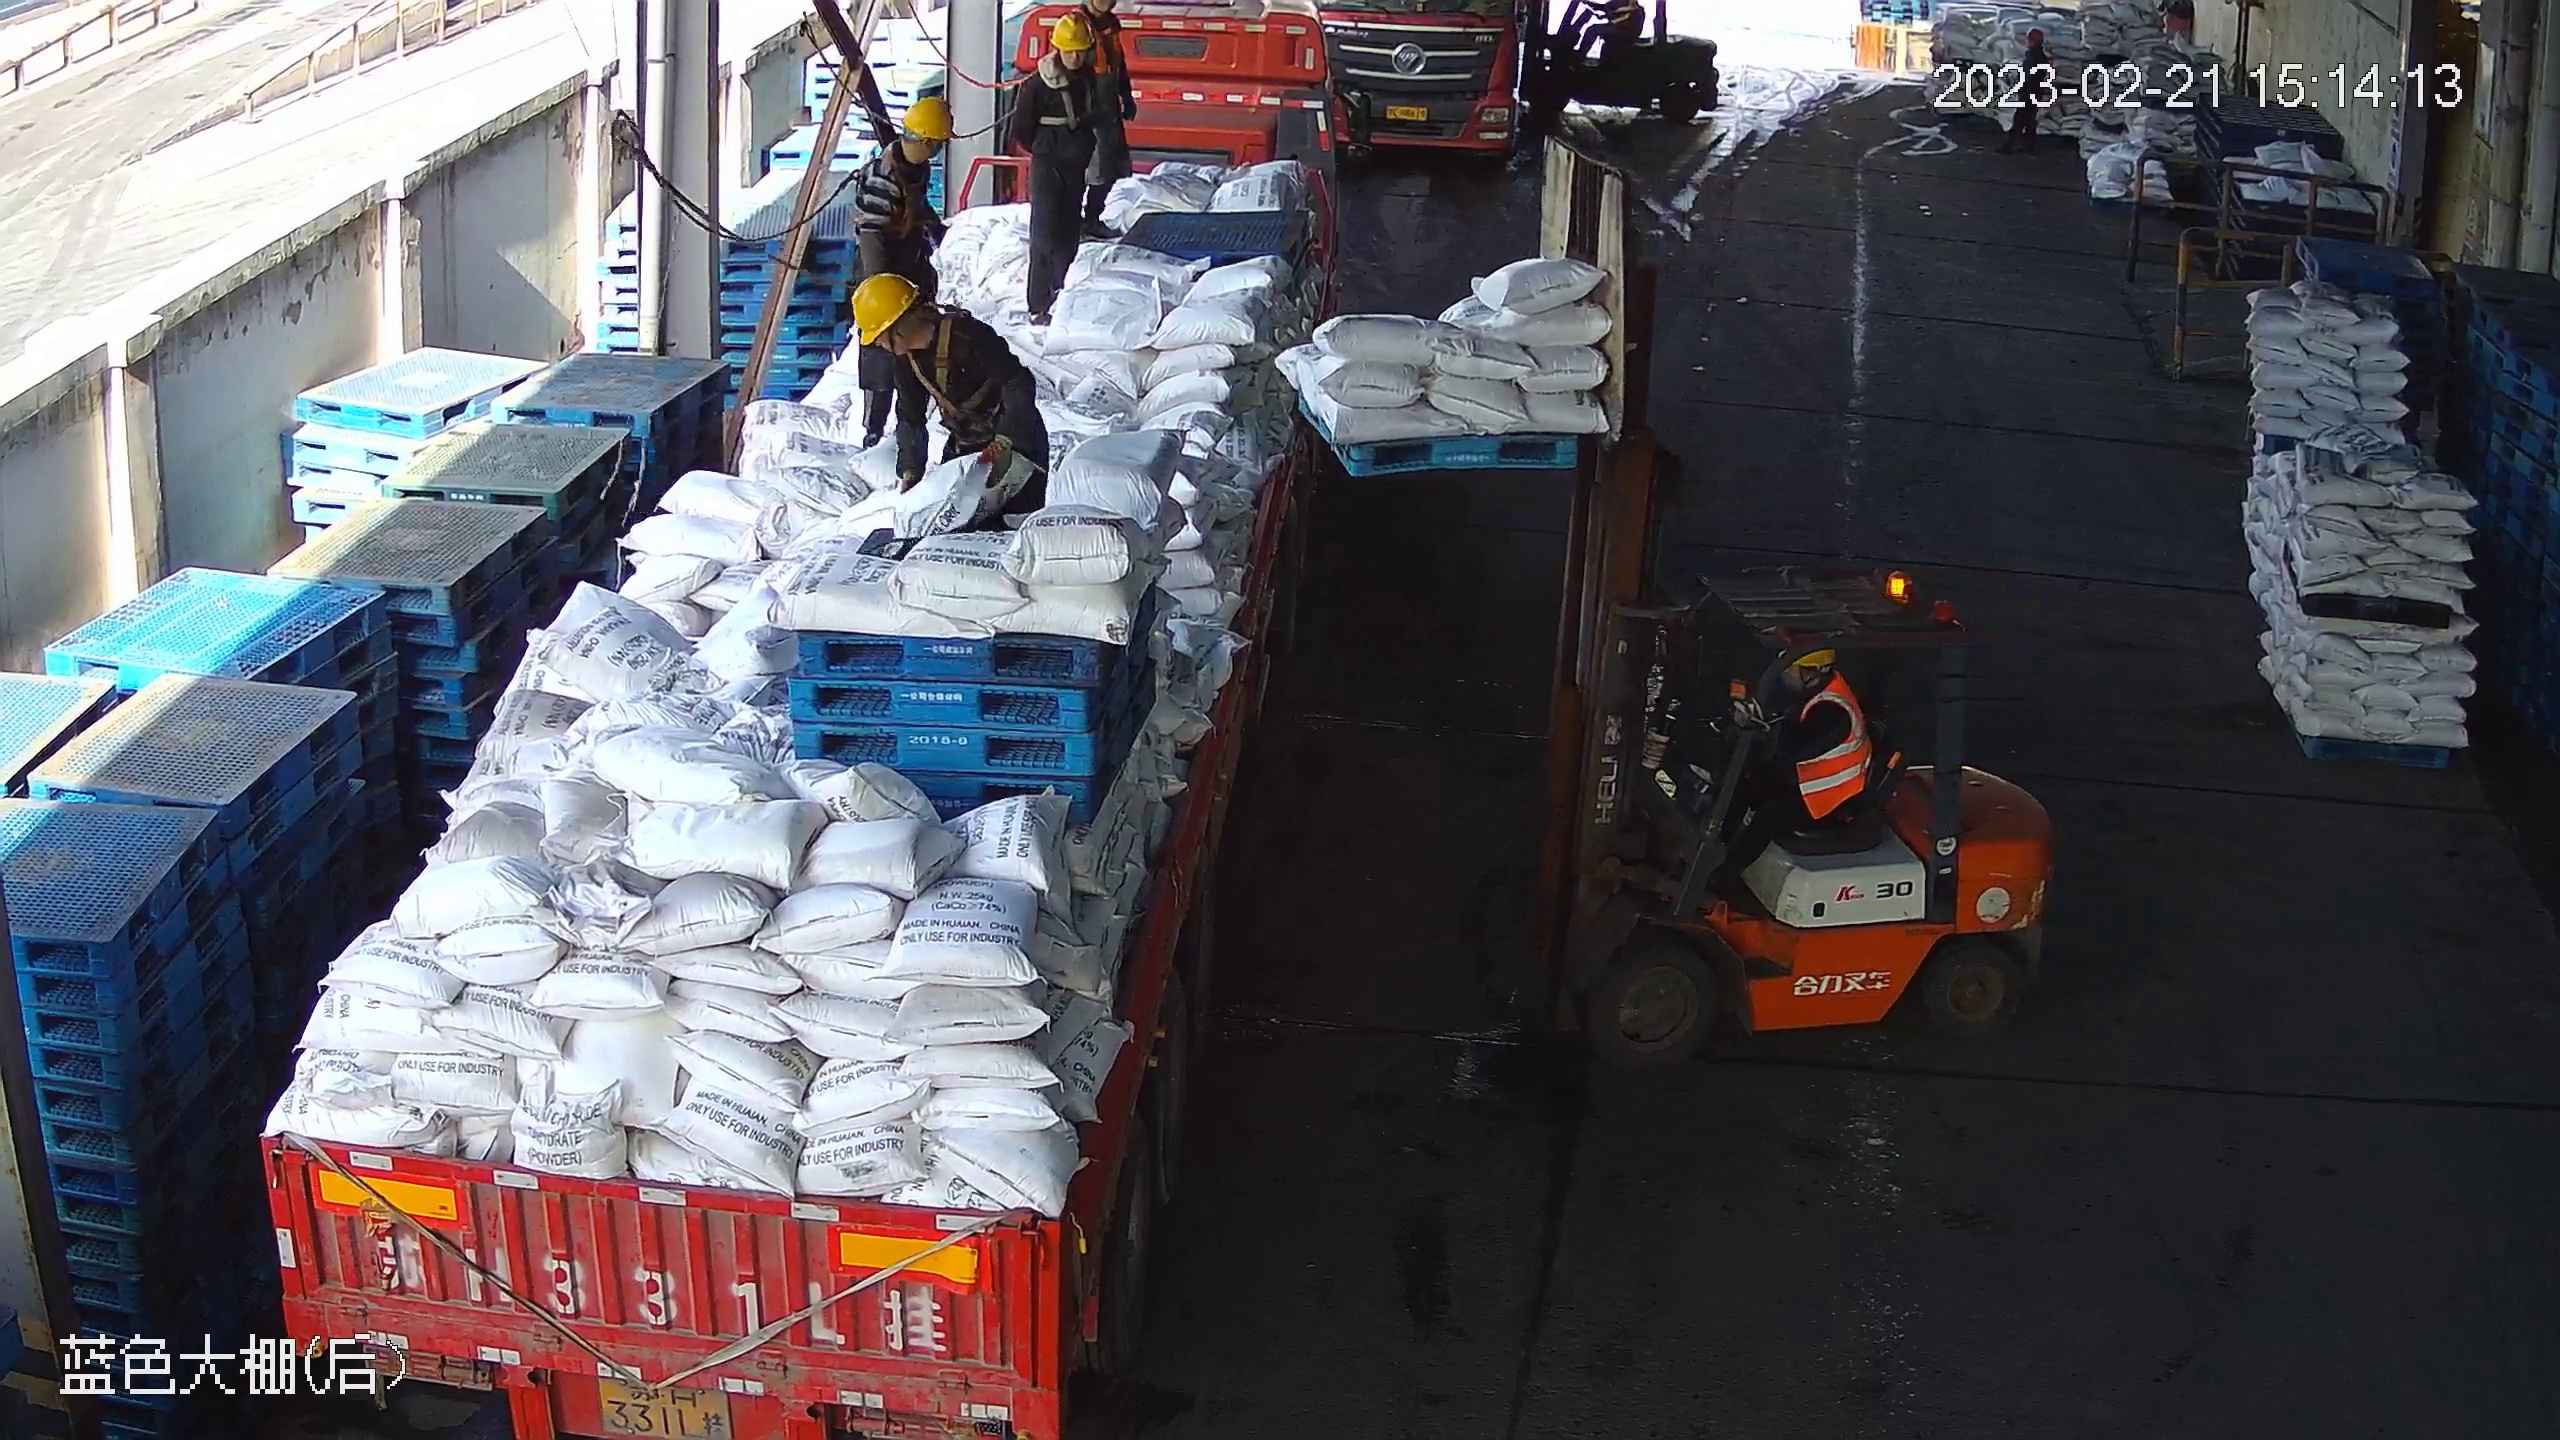belt: (905, 312, 992, 422), (865, 141, 926, 240), (1036, 68, 1100, 134), (1080, 9, 1124, 75)
head: (850, 271, 988, 379), (854, 96, 954, 189), (1015, 12, 1098, 102)
helmet: (851, 272, 918, 346), (901, 95, 954, 137), (1049, 12, 1095, 50)
people: (850, 270, 1049, 534), (1718, 646, 1874, 888), (854, 95, 954, 446), (1014, 11, 1099, 325), (1082, 1, 1138, 239)
truck: (256, 1, 1371, 1440), (1307, 1, 1519, 155)
